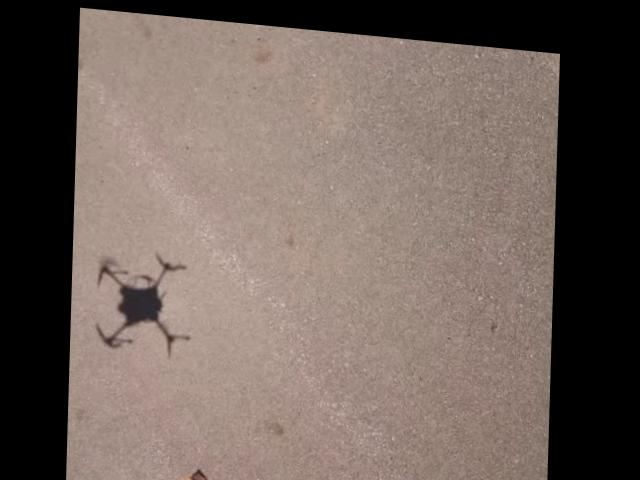fire-poster: (122, 457, 274, 480)
